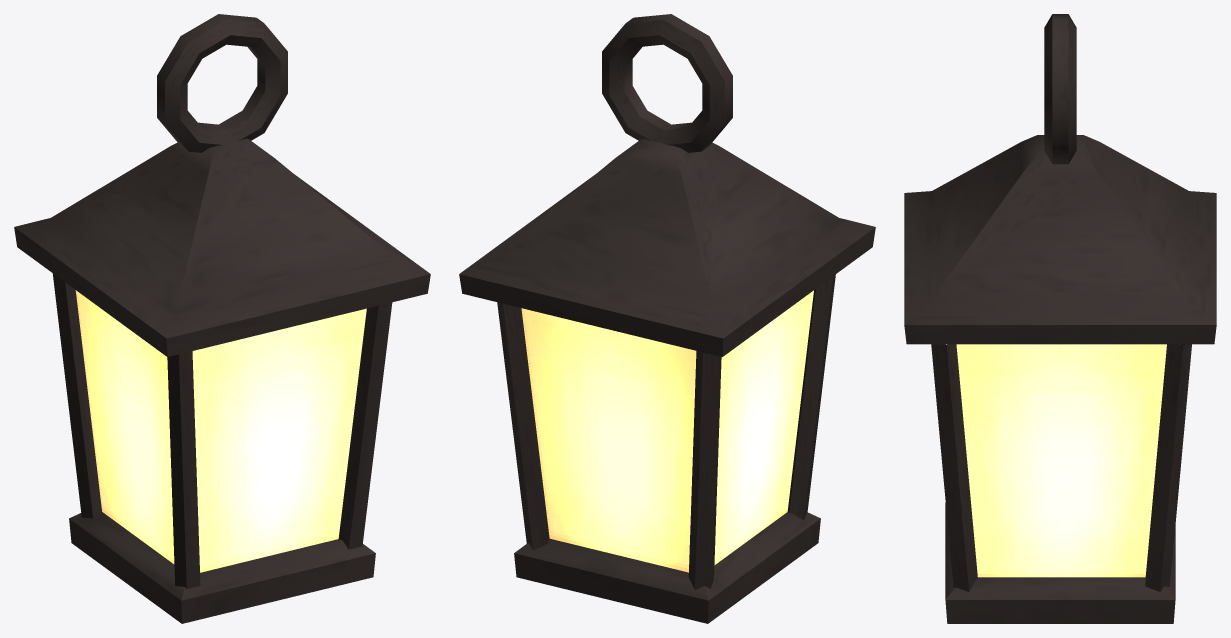
File: hand-lantern.glb
3 views of the same model, side by side, from view 1: azimuth 30°, elevation 25°; view 2: azimuth 150°, elevation 25°; view 3: azimuth 270°, elevation 25° (orthographic). The views are drawn at different scales.
Visible parts, largest first — view 1: hand-lantern; view 2: hand-lantern; view 3: hand-lantern.
Part boxes in pixels (x1=…): hand-lantern: x1=14, y1=14, x2=430, y2=623; hand-lantern: x1=459, y1=14, x2=875, y2=623; hand-lantern: x1=904, y1=14, x2=1216, y2=623.
Size of the model in its own units: 0.275 by 0.5404 by 0.275.
2 materials, 2 textured.
